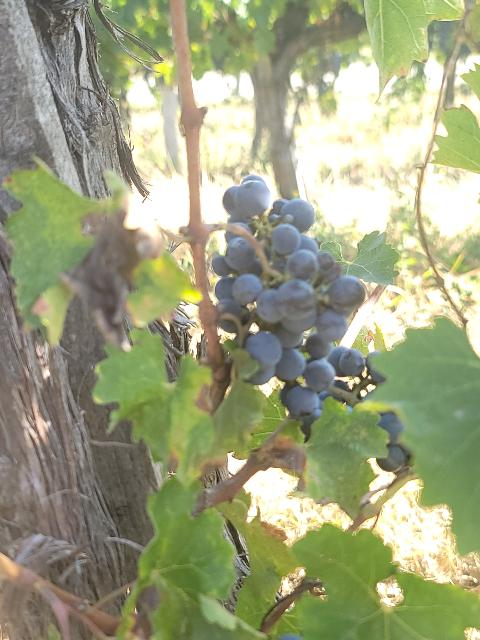grapes: (211, 175, 366, 419)
